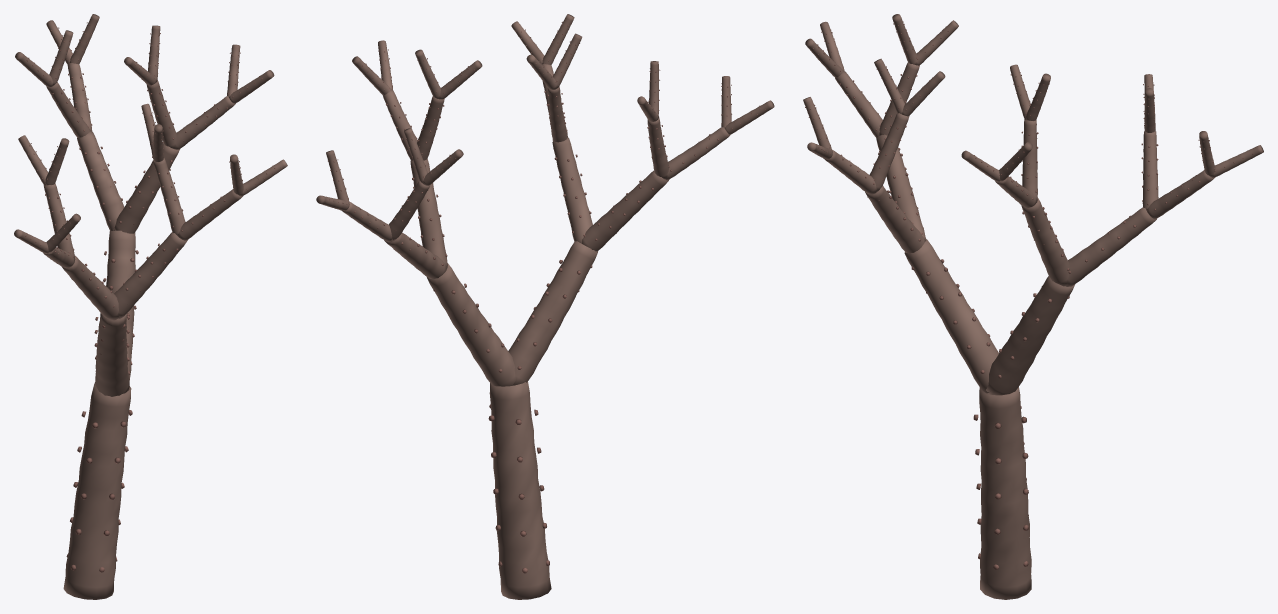
File: branching-tabulate-coral-v2.glb
3 views of the same model, side by side, from view 1: azimuth 30°, elevation 25°; view 2: azimuth 150°, elevation 25°; view 3: azimuth 270°, elevation 25° (orthographic). The views are drawn at different scales.
Parts seen in each view (by area): view 1: branching-tabulate-coral-v2; view 2: branching-tabulate-coral-v2; view 3: branching-tabulate-coral-v2.
Part boxes in pixels (bbox=[...]): branching-tabulate-coral-v2: bbox=[14, 14, 287, 599]; branching-tabulate-coral-v2: bbox=[316, 14, 774, 599]; branching-tabulate-coral-v2: bbox=[803, 14, 1263, 599].
Size of the model in its own units: 0.093 by 0.1448 by 0.1083.
